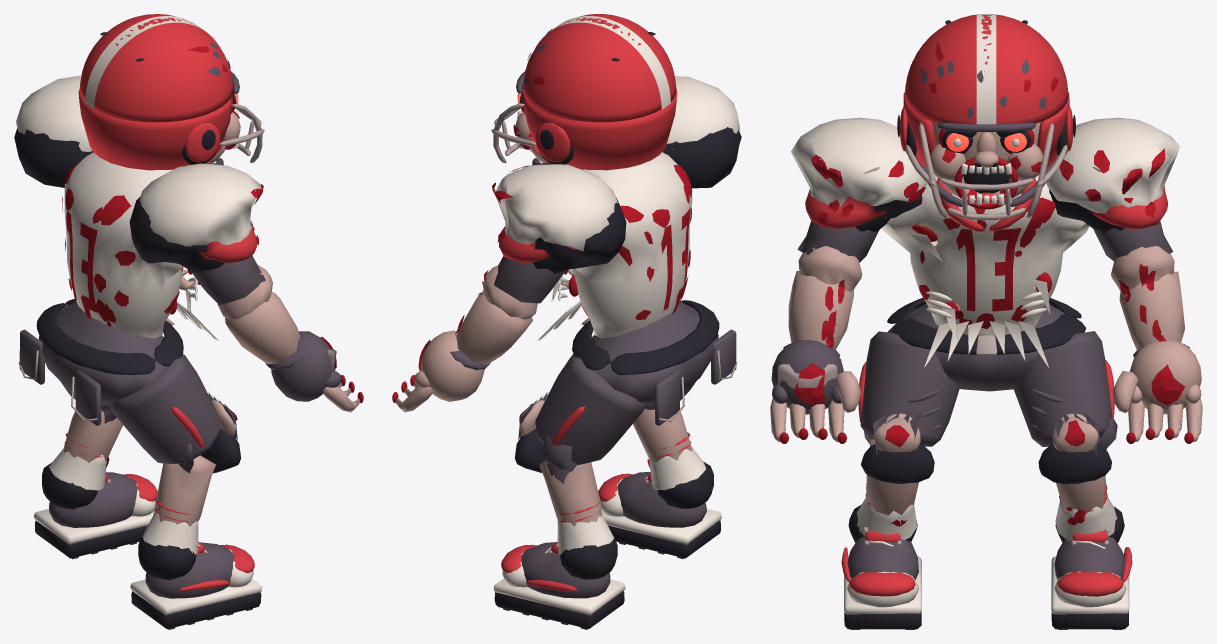
3 renders of one model, left to right at view 1: azimuth 30°, elevation 25°; view 2: azimuth 150°, elevation 25°; view 3: azimuth 270°, elevation 25°, orthographic. The views are drawn at different scales.
Visible parts, largest first — view 1: head__geometry, torso__geometry, armR__geometry, hip__geometry, footR__geometry, footL__geometry, legR__geometry, armL__geometry, shinR__geometry, foreArmR__geometry, handR__geometry, shinL__geometry; view 2: head__geometry, torso__geometry, armL__geometry, hip__geometry, footL__geometry, footR__geometry, legL__geometry, armR__geometry, shinL__geometry, foreArmL__geometry, handL__geometry, shinR__geometry; view 3: head__geometry, torso__geometry, armR__geometry, armL__geometry, legR__geometry, legL__geometry, hip__geometry, footL__geometry, footR__geometry, handR__geometry, handL__geometry, foreArmR__geometry (+3 smaller).
Boxes of the visible parts, x1,y1,x2,y2 form: head__geometry: (78,14,264,170); torso__geometry: (62,152,218,340); armR__geometry: (129,163,265,305); hip__geometry: (18,298,183,425); footR__geometry: (130,537,262,629); footL__geometry: (33,462,157,559); legR__geometry: (110,354,237,464); armL__geometry: (14,75,93,187); shinR__geometry: (142,429,240,554); foreArmR__geometry: (217,264,305,370); handR__geometry: (271,331,363,412); shinL__geometry: (49,409,122,490); head__geometry: (491,14,677,170); torso__geometry: (537,152,692,340); armL__geometry: (492,164,626,303); hip__geometry: (572,300,737,425); footL__geometry: (493,536,625,629); footR__geometry: (598,461,721,558); legL__geometry: (518,354,646,465); armR__geometry: (662,76,741,188); shinL__geometry: (515,428,613,554); foreArmL__geometry: (450,265,537,370); handL__geometry: (392,330,484,412); shinR__geometry: (633,409,705,490); head__geometry: (897,14,1075,219); torso__geometry: (881,174,1089,367); armR__geometry: (791,117,927,262); armL__geometry: (1046,117,1179,261); legR__geometry: (858,331,959,455); legL__geometry: (1013,331,1114,455); hip__geometry: (887,298,1085,391); footL__geometry: (1051,506,1132,629); footR__geometry: (841,504,921,629); handR__geometry: (770,339,860,443); handL__geometry: (1112,340,1202,443); foreArmR__geometry: (783,246,862,356).
Size of what is drawn, in the model's own units: 0.7224 by 1.76 by 1.17.
